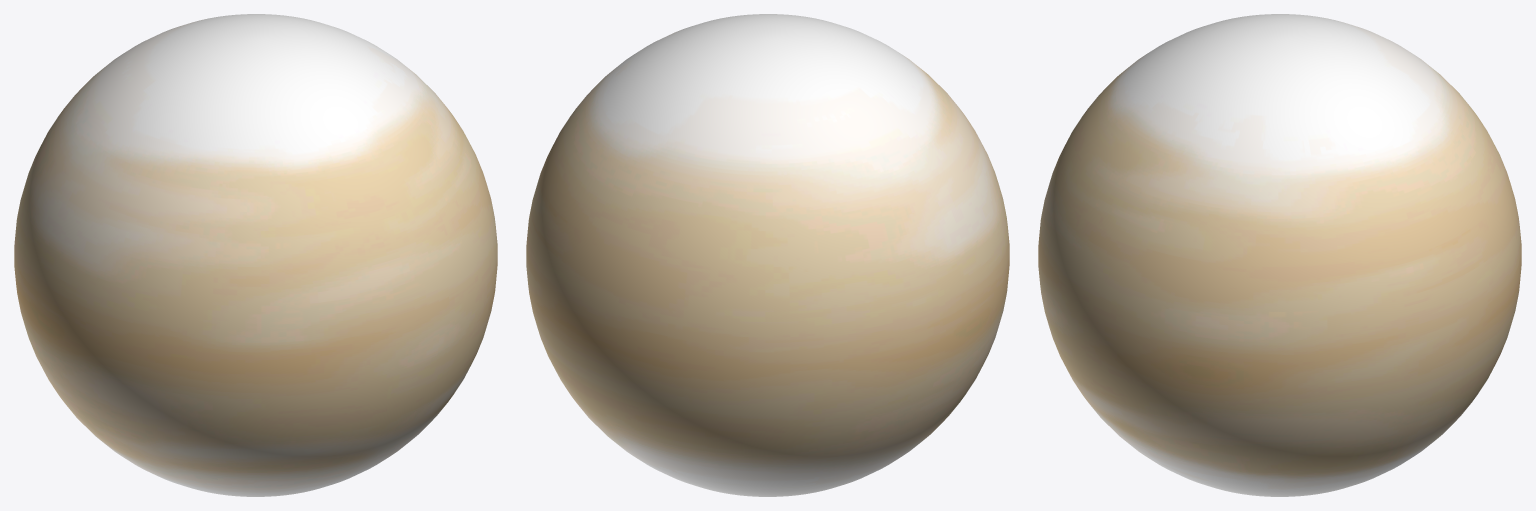
Rendered from Venus.fbx.
The picture shows the model from 3 angles, left to right: view 1: azimuth 30°, elevation 25°; view 2: azimuth 150°, elevation 25°; view 3: azimuth 270°, elevation 25°; orthographic projection.
Parts seen in each view (by area): view 1: node_id4; view 2: node_id4; view 3: node_id4.
Boxes of the visible parts, left/top/right/bottom form: node_id4: left=14, top=14, right=497, bottom=496; node_id4: left=526, top=14, right=1009, bottom=496; node_id4: left=1038, top=14, right=1521, bottom=496.
Size of the model in its own units: 0.512 by 0.512 by 0.512.
1 material, 1 textured.
